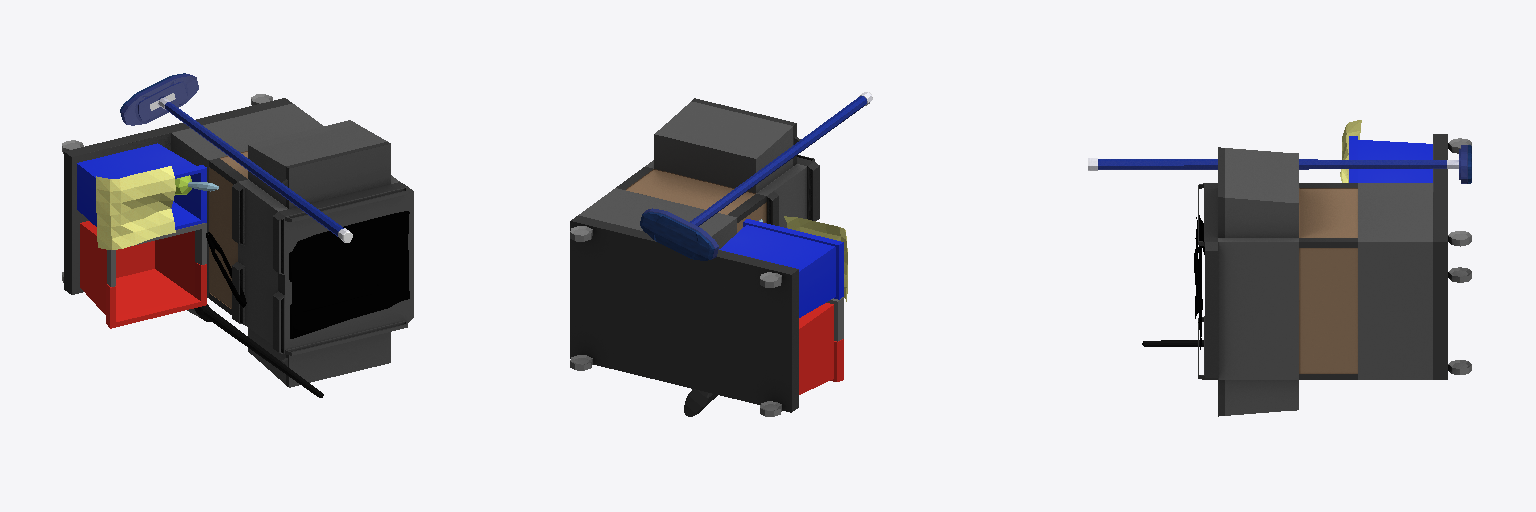
3 views of the same model, side by side, from view 1: azimuth 30°, elevation 25°; view 2: azimuth 150°, elevation 25°; view 3: azimuth 270°, elevation 25° (orthographic).
Parts seen in each view (by area): view 1: Cart2_Cube.001, BigRed_Cube.004, Bag.001_Plane.002, Cloth_Plane, Bag_Plane.001, Blue_Cube.000, Mop_Cube, Broom_BroomTall, Tongs_Cube.002; view 2: Cart2_Cube.001, Blue_Cube.000, Mop_Cube, BigRed_Cube.004, Cloth_Plane, Broom_BroomTall; view 3: Cart2_Cube.001, Mop_Cube, Blue_Cube.000, Cloth_Plane.
Part boxes in pixels (x1,y1,x2,y2): Cart2_Cube.001: (62,94,413,387); BigRed_Cube.004: (80,221,206,328); Bag.001_Plane.002: (291,222,380,313); Cloth_Plane: (96,166,175,249); Bag_Plane.001: (289,211,409,338); Blue_Cube.000: (77,143,206,229); Mop_Cube: (120,73,352,242); Broom_BroomTall: (187,304,323,397); Tongs_Cube.002: (206,232,246,307); Cart2_Cube.001: (570,98,819,416); Blue_Cube.000: (719,219,843,317); Mop_Cube: (640,92,872,260); BigRed_Cube.004: (799,297,843,394); Cloth_Plane: (784,216,847,301); Broom_BroomTall: (684,389,717,416); Cart2_Cube.001: (1198,134,1471,416); Mop_Cube: (1088,145,1471,183); Blue_Cube.000: (1349,136,1432,182); Cloth_Plane: (1340,120,1361,182).
Size of the model in its own units: 0.9405 by 0.8214 by 1.3.
Materials: 8 (7 with a texture image).